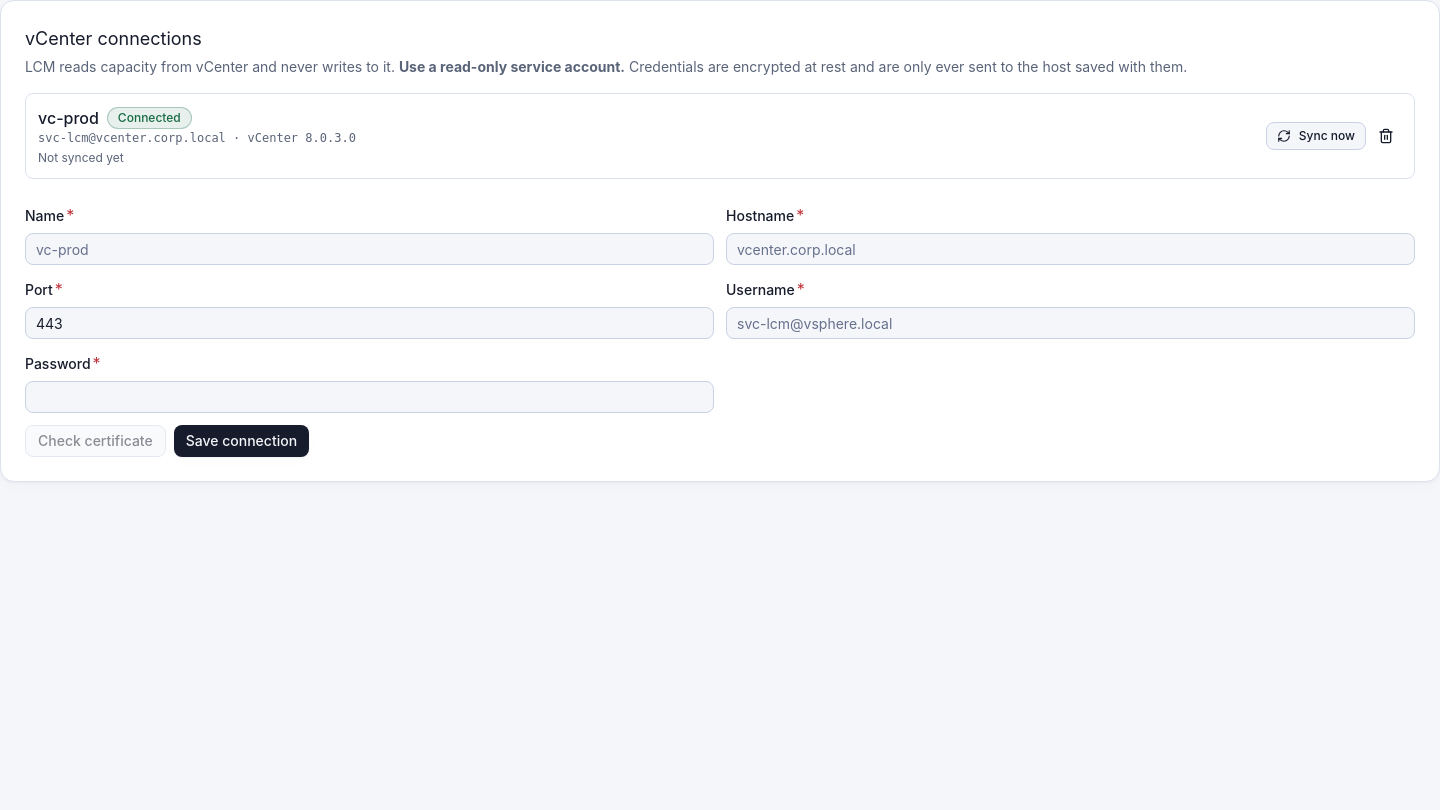
Test: <VcenterConnectionsPanel> › promises no data loss when removing a connection
The width and height of the screenshot is (1440, 810).
Click the button named "remove vc-prod" at (1386, 136), box [1370, 120, 1402, 152]
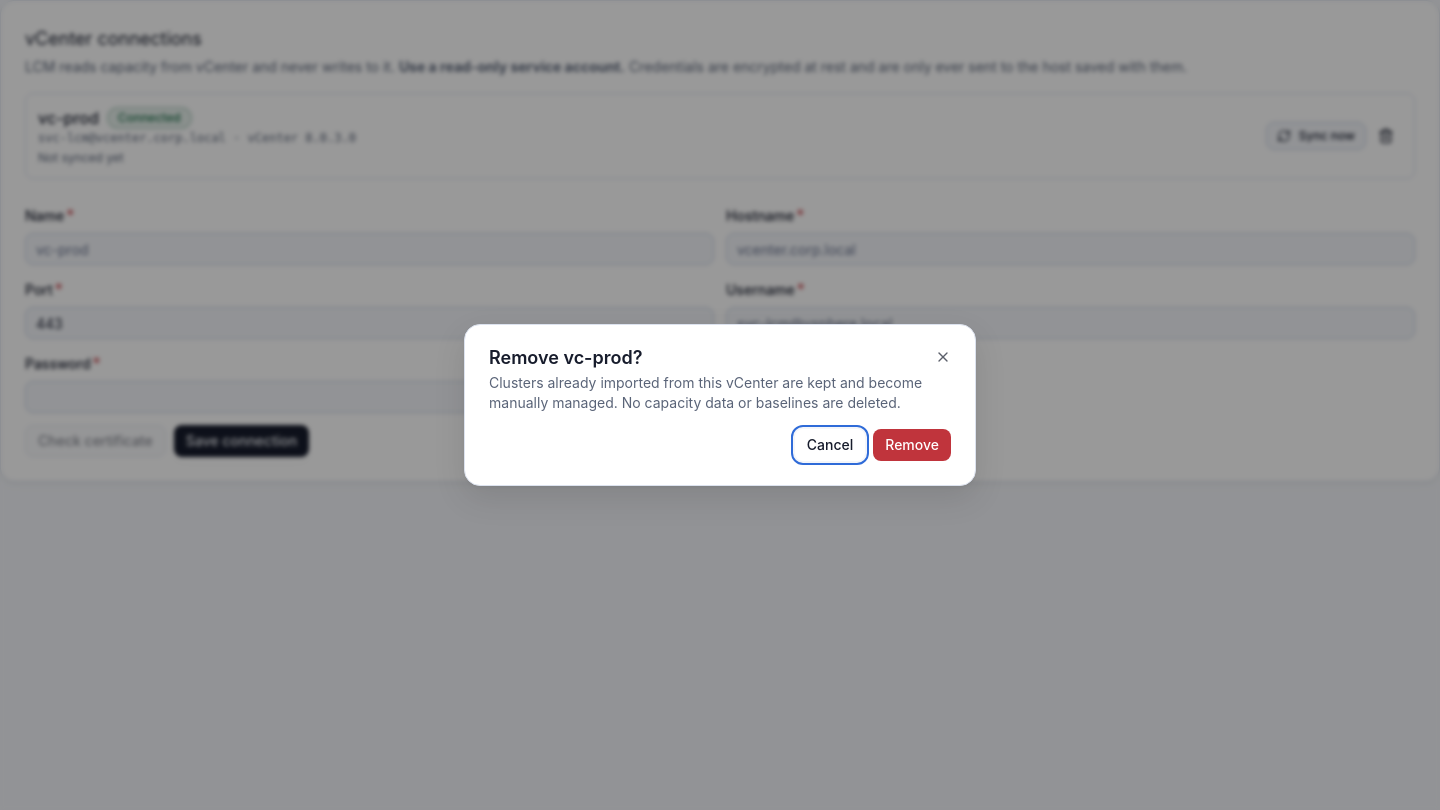
Now the text "no capacity data or baselines are deleted" is shown, box [489, 374, 922, 411]
